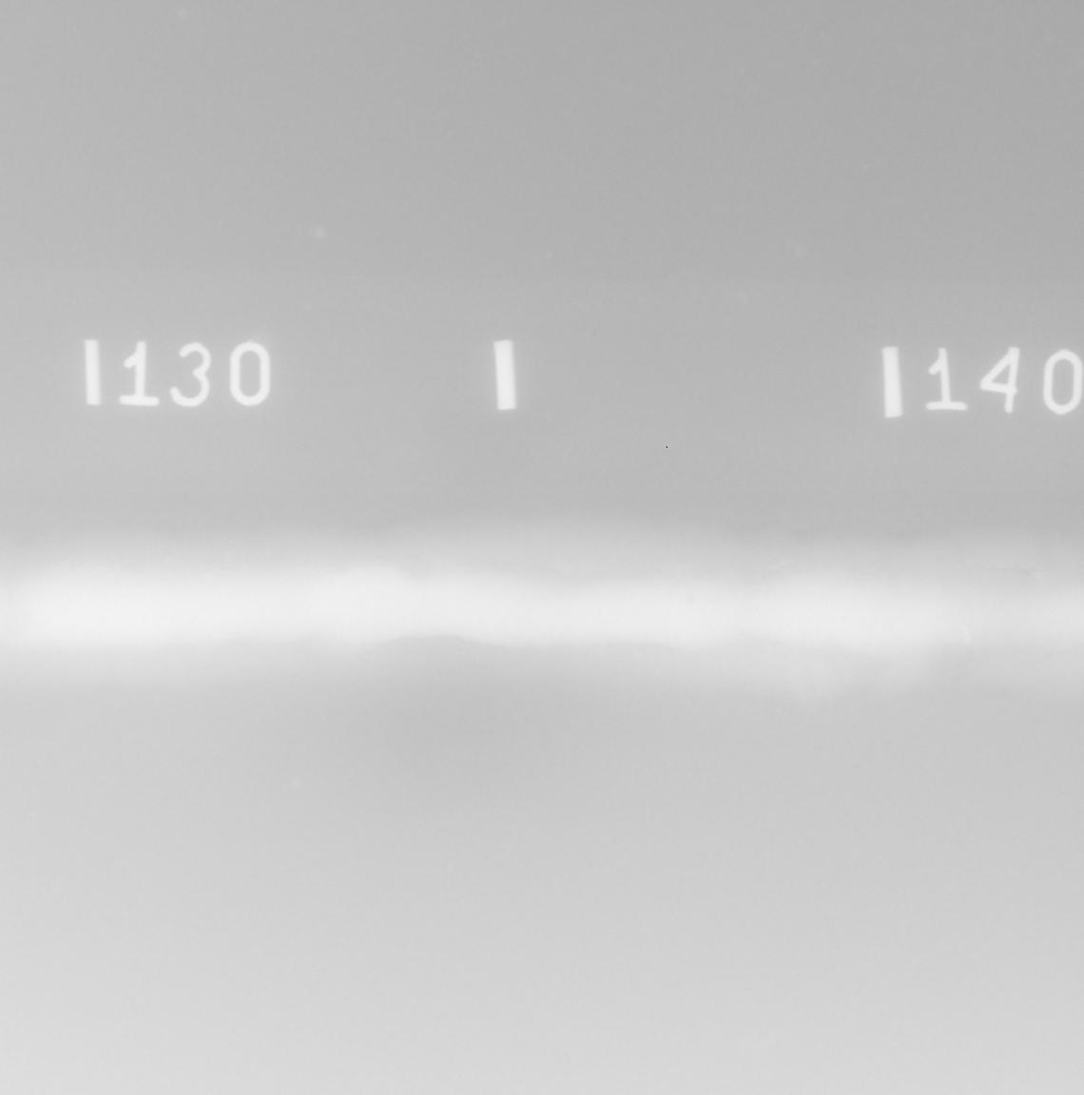Inclusion: (1048, 651, 1061, 660)
Lack of Fusion: (989, 567, 1039, 576)
Pore/Porosity: (686, 597, 695, 604), (125, 564, 133, 569)
